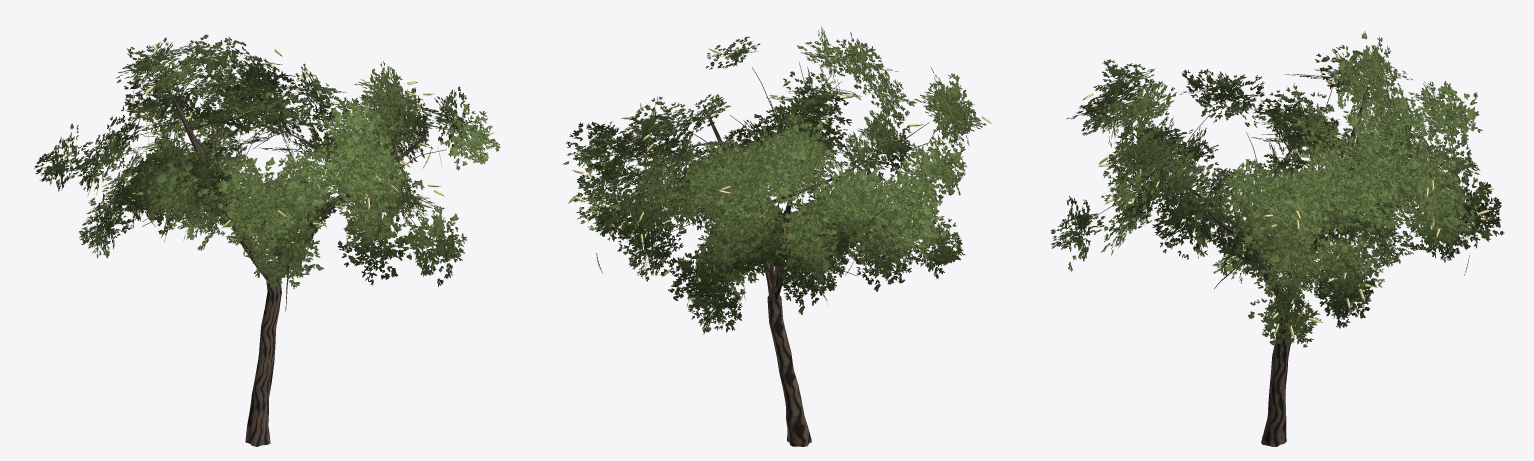
File: young-c.lod0.glb
3 renders of one model, left to right at view 1: azimuth 30°, elevation 25°; view 2: azimuth 150°, elevation 25°; view 3: azimuth 270°, elevation 25°, orthographic. The views are drawn at different scales.
Parts seen in each view (by area): view 1: foliage, bark, flowers; view 2: foliage, bark, flowers; view 3: foliage, bark, flowers.
Part boxes in pixels (x1,y1,x2,y2): foliage: (34, 34, 500, 289); bark: (96, 61, 446, 446); flowers: (64, 43, 494, 227); foliage: (562, 26, 986, 334); bark: (615, 62, 938, 446); flowers: (567, 48, 991, 301); foliage: (1050, 31, 1504, 347); bark: (1095, 78, 1430, 446); flowers: (1082, 69, 1493, 339).
Bounding box in the file's own units: 4.46 × 3.8 × 4.18.
5 materials, 3 textured.
